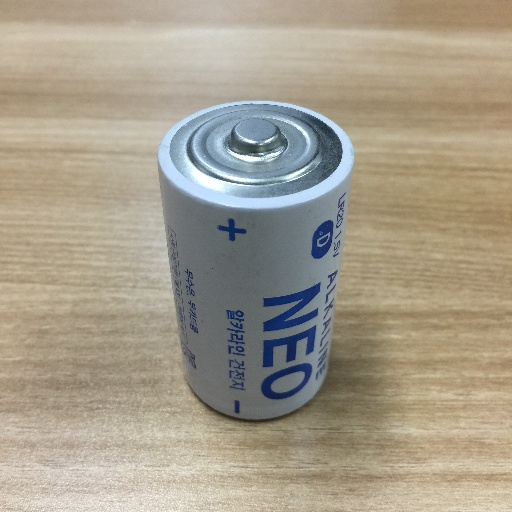Battery_0: (149, 90, 362, 432)
